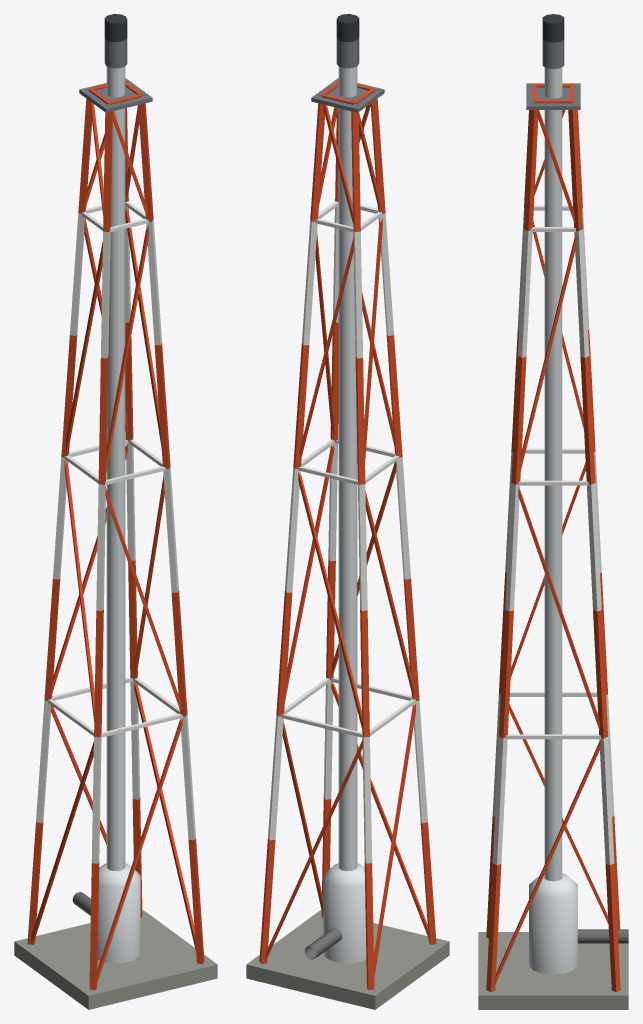
File: mashup-flare-top-prebuilt.fbx
3 renders of one model, left to right at view 1: azimuth 30°, elevation 25°; view 2: azimuth 150°, elevation 25°; view 3: azimuth 270°, elevation 25°, orthographic.
Visible parts, largest first — view 1: a1018/0/mashup-flare-top-prebuilt; view 2: a1018/0/mashup-flare-top-prebuilt; view 3: a1018/0/mashup-flare-top-prebuilt.
Boxes of the visible parts, bbox=[...] form: a1018/0/mashup-flare-top-prebuilt: bbox=[14, 14, 217, 1009]; a1018/0/mashup-flare-top-prebuilt: bbox=[246, 14, 449, 1009]; a1018/0/mashup-flare-top-prebuilt: bbox=[478, 14, 628, 1009].
Bounding box in the file's own units: 7.2 × 50.6 × 7.2.
